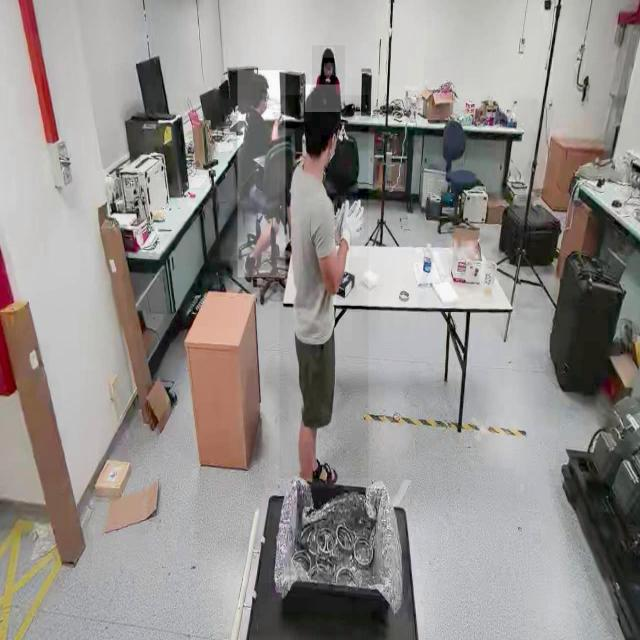face_nomask: (324, 63, 334, 77)
hand_glove: (333, 195, 367, 257)
hand_noglove: (273, 112, 284, 126)
head_nohelmet: (304, 84, 340, 113), (249, 72, 269, 87), (323, 47, 335, 59)
person: (279, 95, 369, 479), (237, 70, 285, 278), (311, 46, 345, 108)
